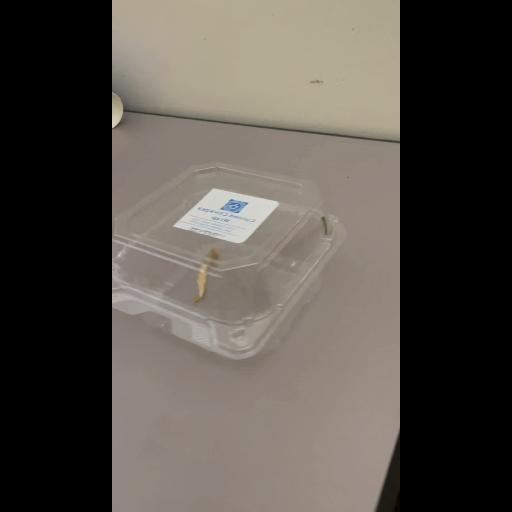small_plastic_container: (112, 162, 346, 362)
